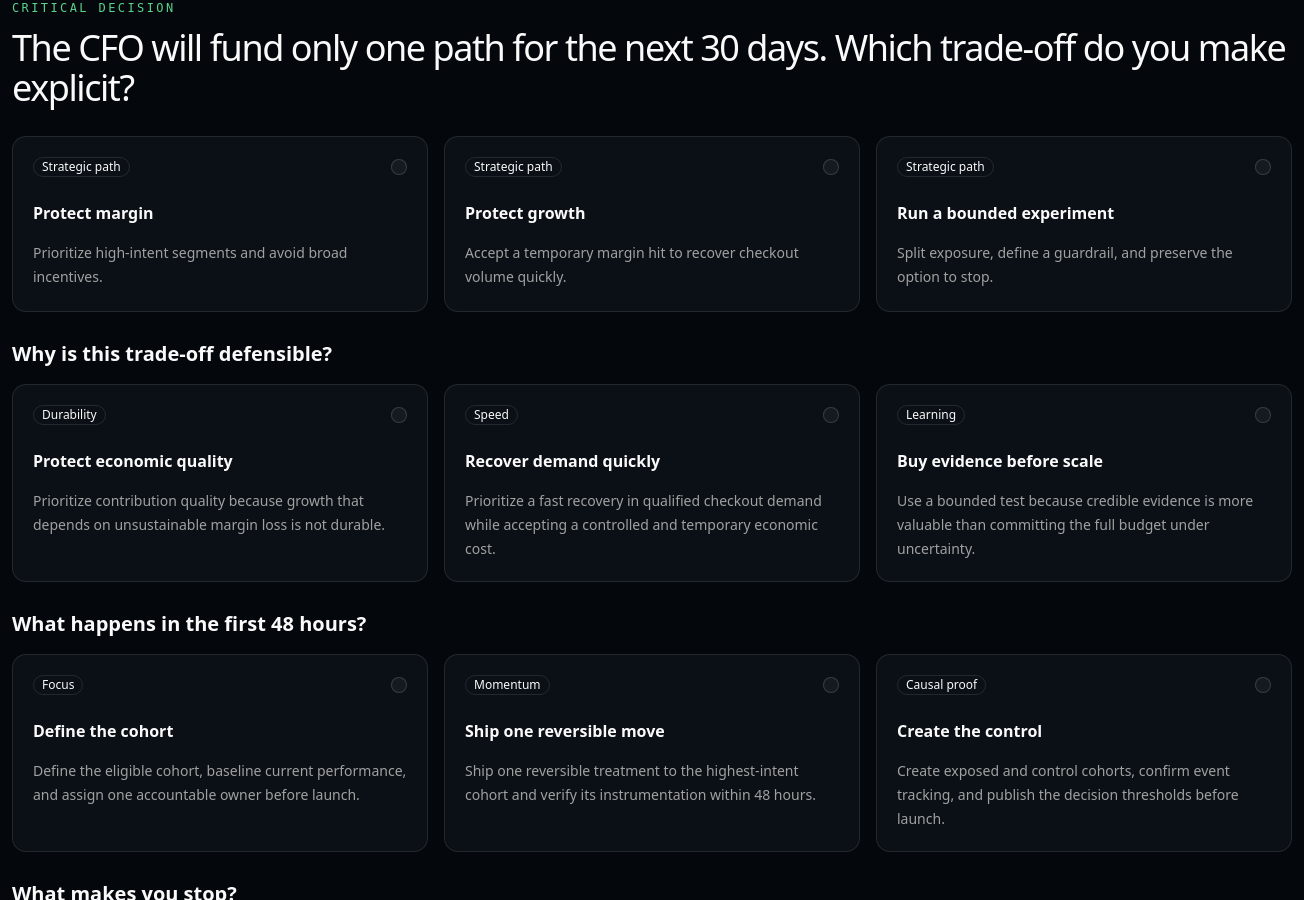
it: DecisionForm › restores an actionable state when saving fails
This screenshot has width=1304, height=900.
Step 1. Click the 1st radio button named "Protect margin" → coordinates (399, 167), box [391,159,407,175]
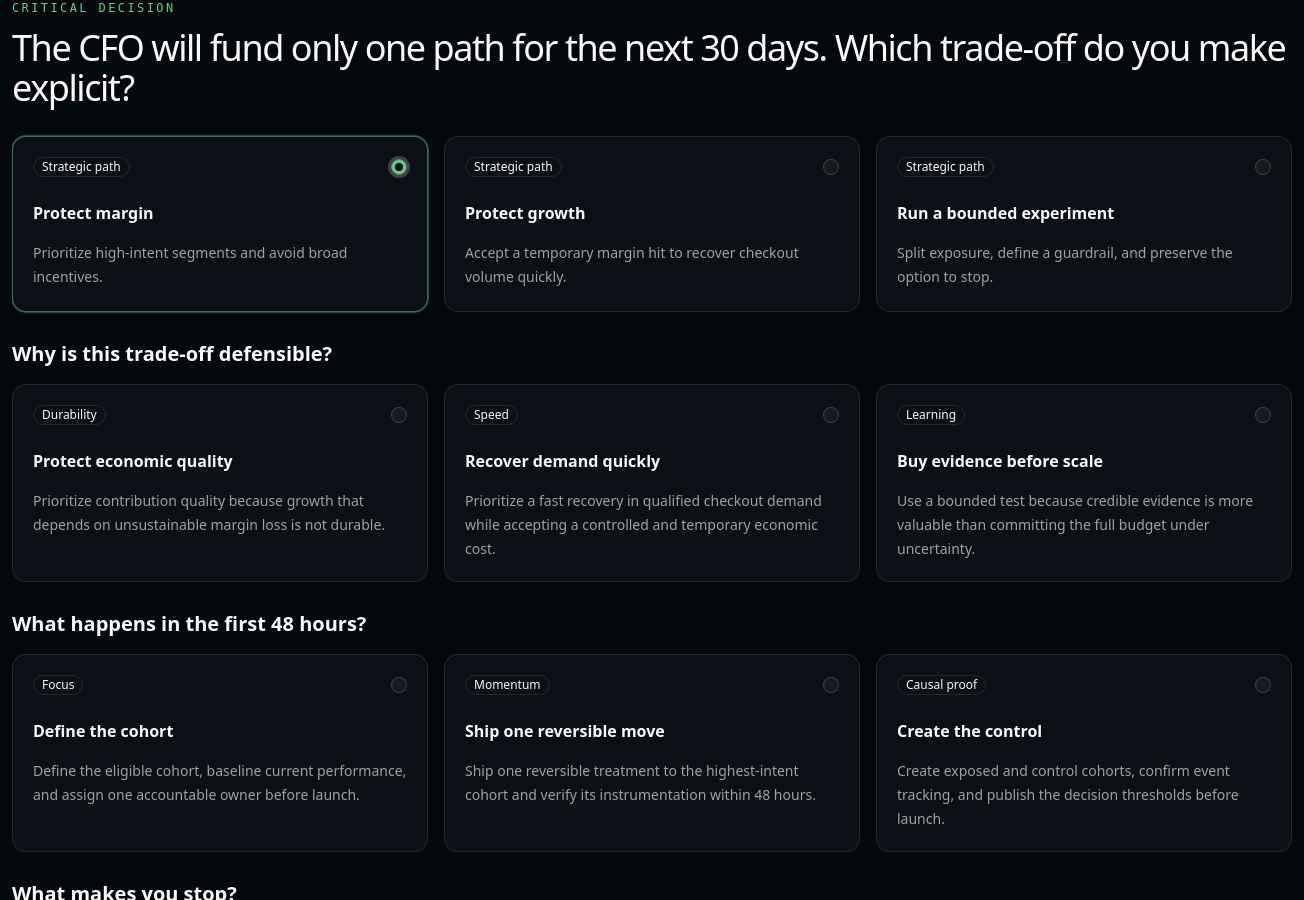
Step 2. Click the radio button named "Protect economic quality" in the row of "Durability" → coordinates (399, 415), box [391,407,407,423]
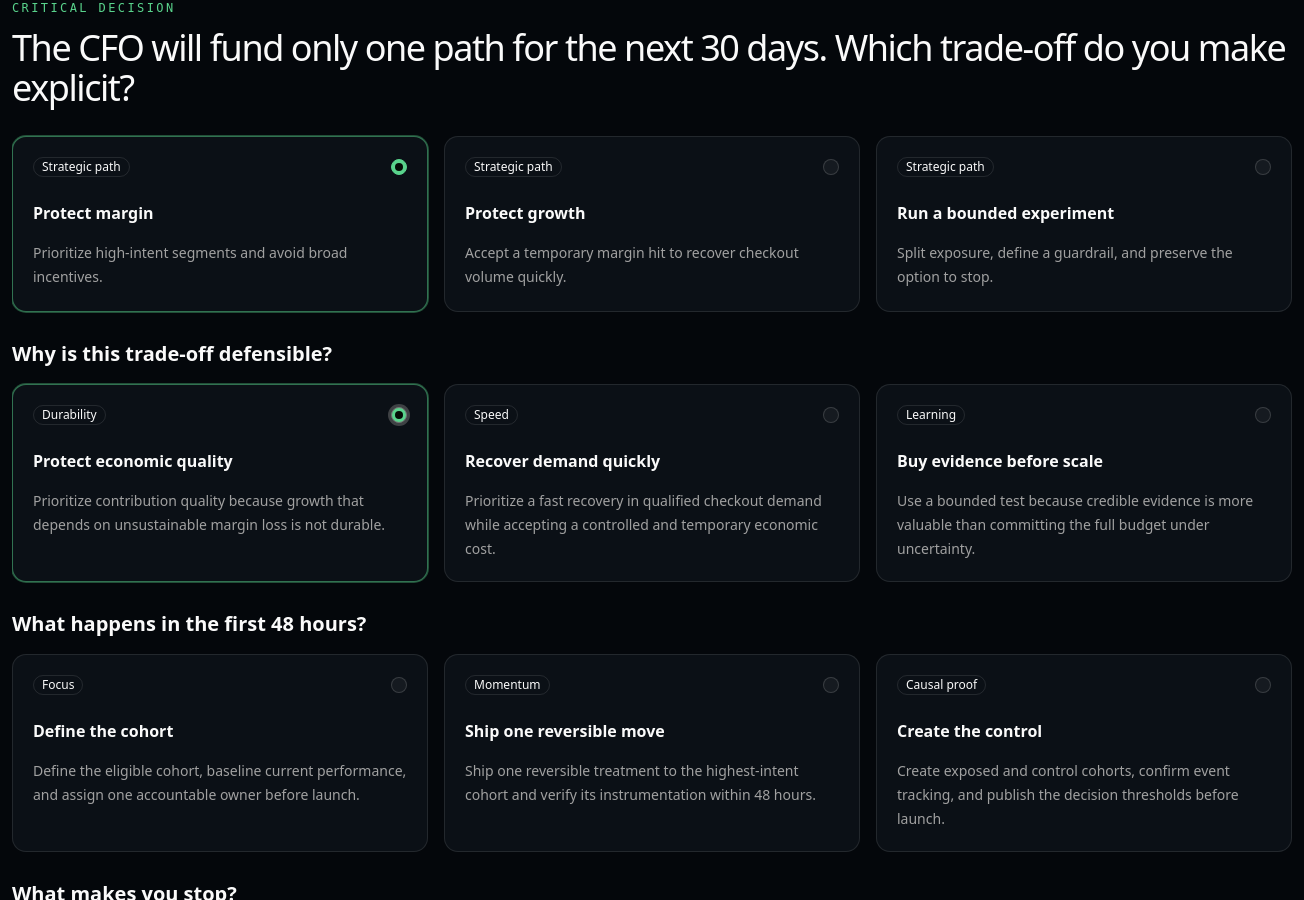
Step 3. Click the radio button named "Define the cohort" in the row of "Focus" → coordinates (399, 685), box [391,677,407,693]
(page scrolled)
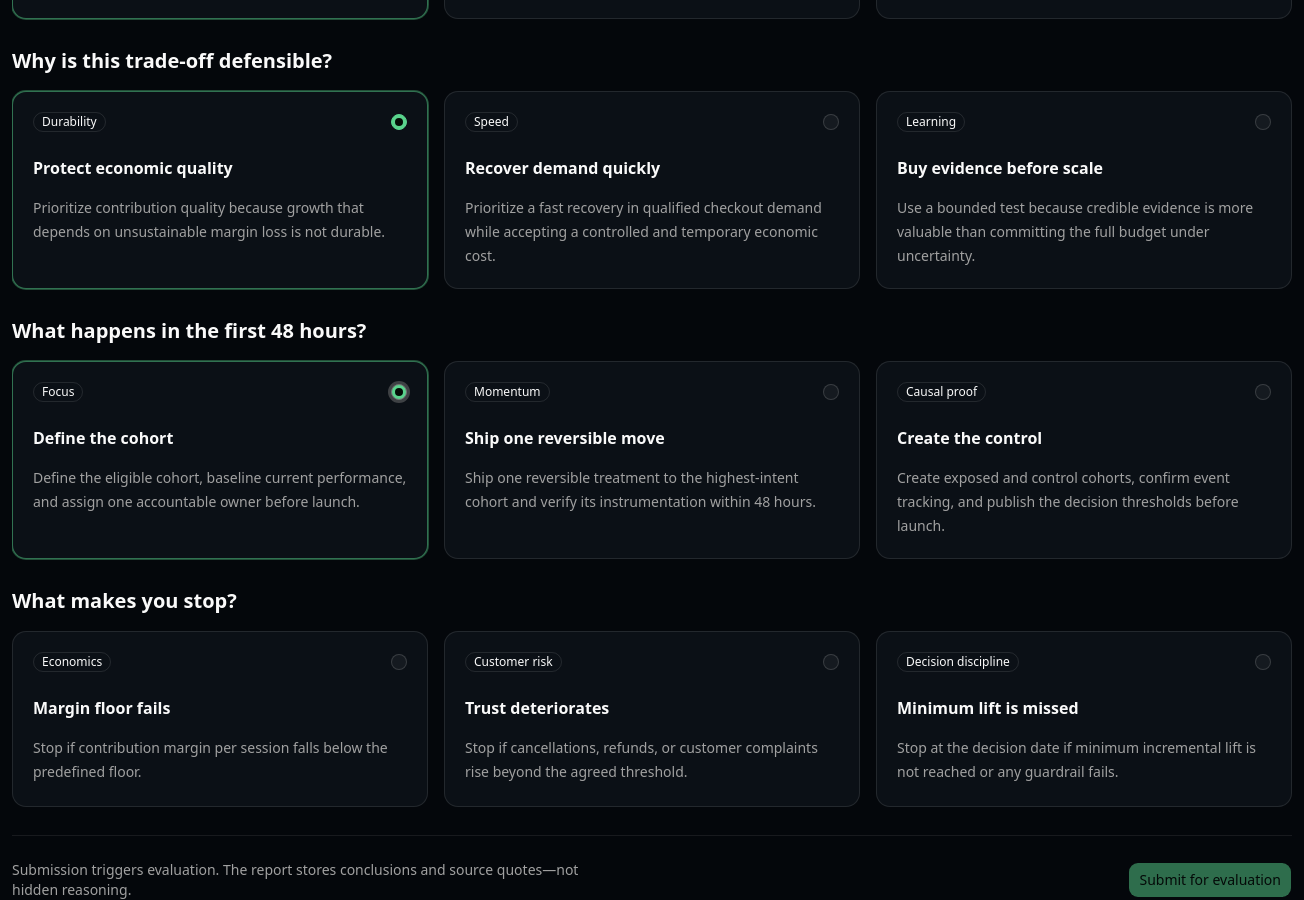
Step 4. Click the radio button named "Margin floor fails" in the row of "Economics" → coordinates (399, 662), box [391,654,407,670]
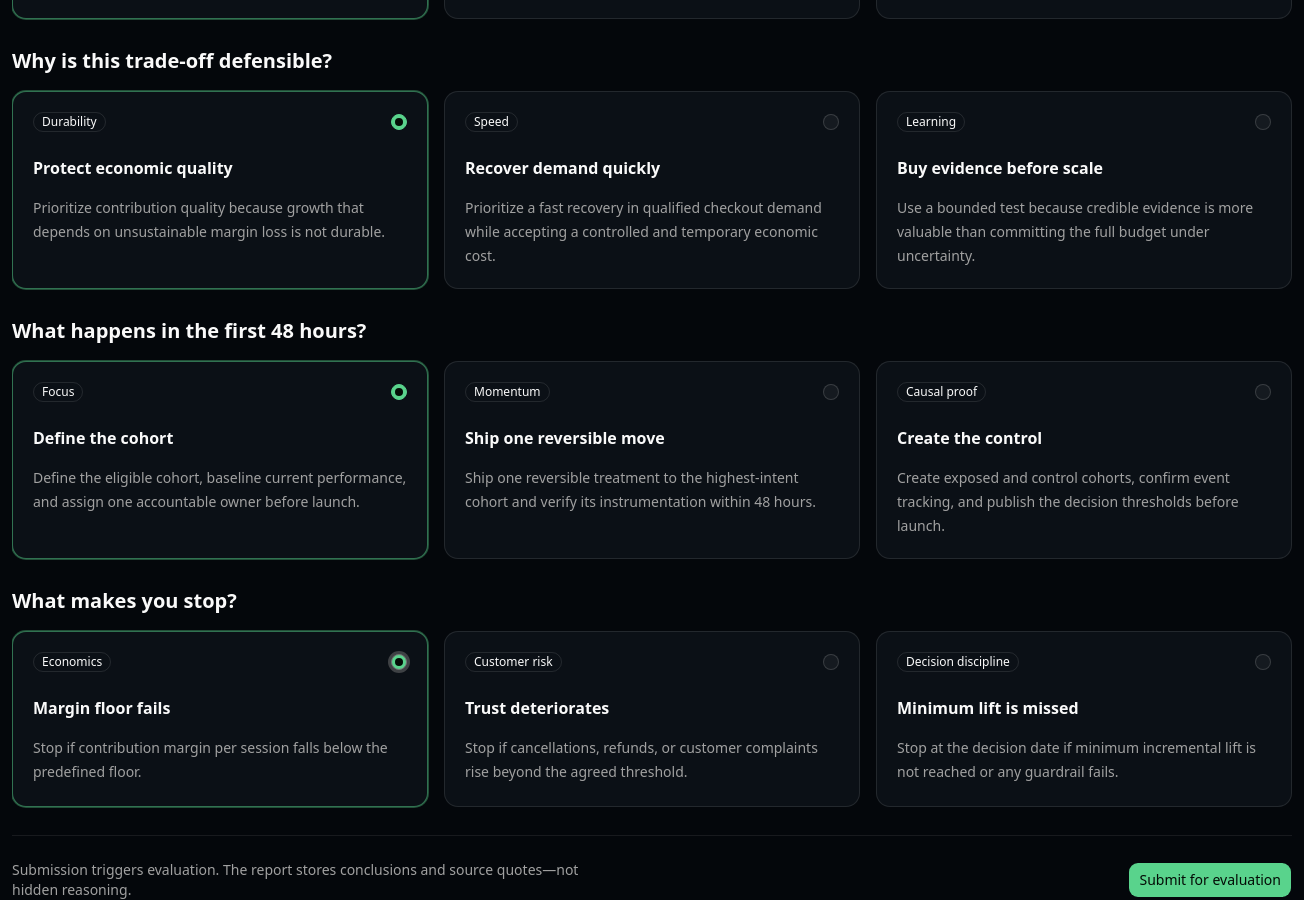
Step 5. Click the button "Submit for evaluation" → coordinates (1210, 880), box [1128,862,1292,898]
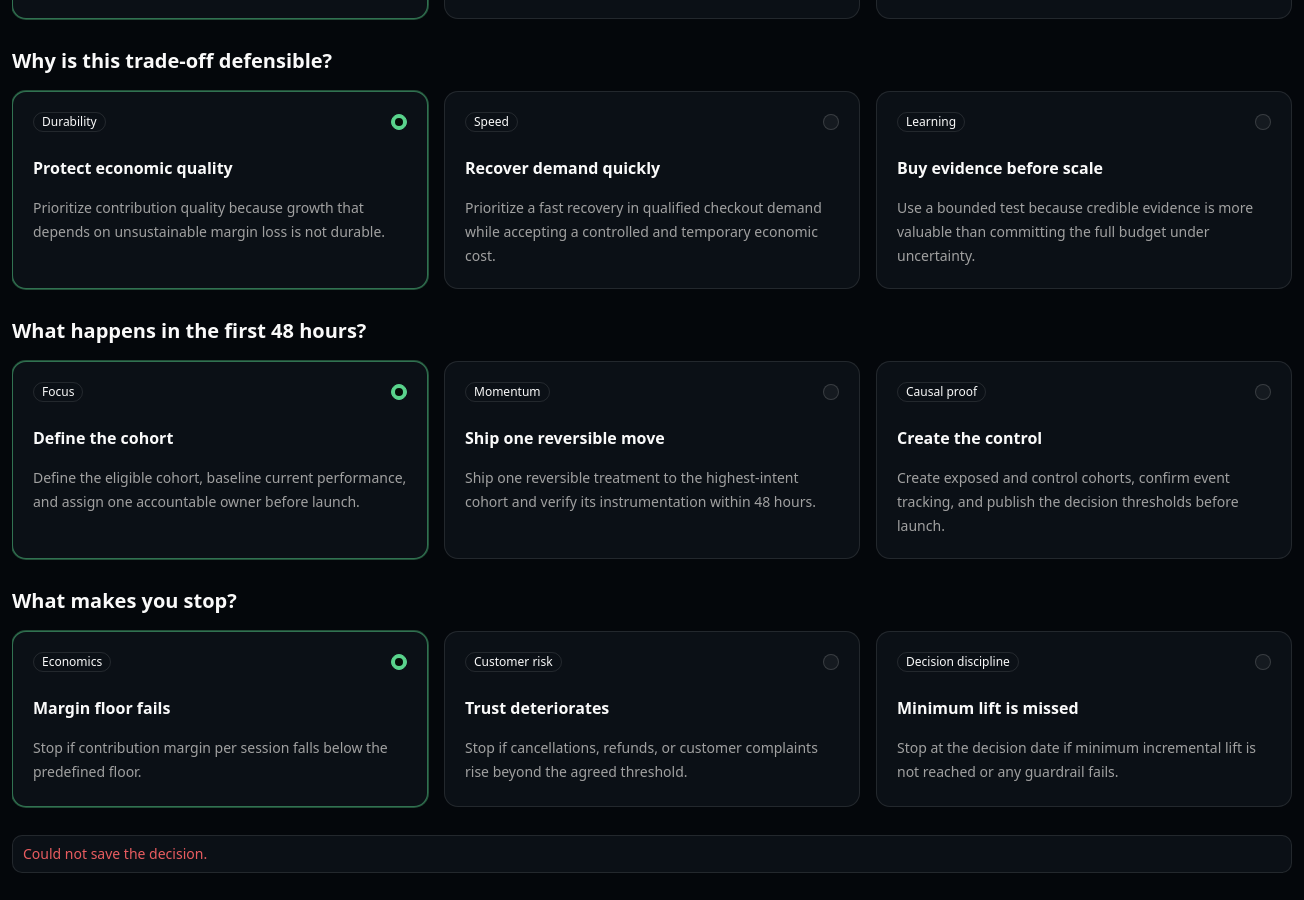
expect the radio button named "Protect economic quality" in the row of "Durability" is checked: met, box [391,114,407,130]
expect the radio button named "Define the cohort" in the row of "Focus" is checked: met, box [391,384,407,400]
expect the message reads "Could not save the decision.": met, box [23,844,207,863]
